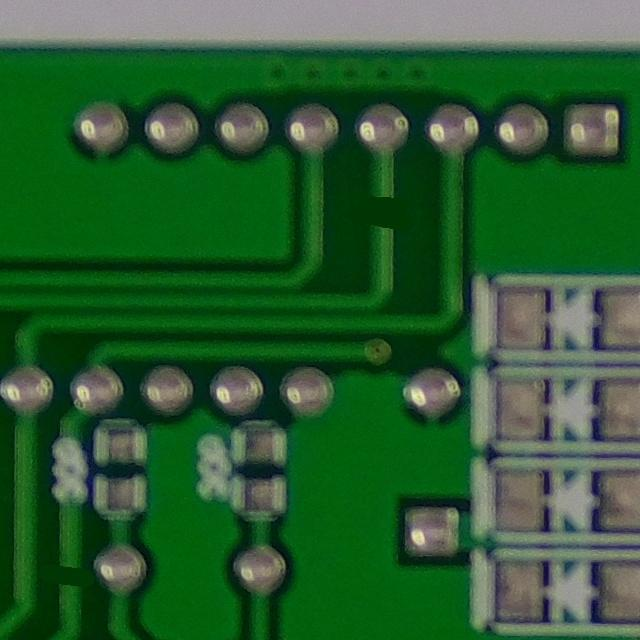open_circuit: (360, 185, 404, 241), (49, 555, 90, 597)
